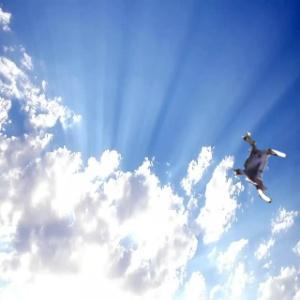drone: (226, 135, 293, 202)
